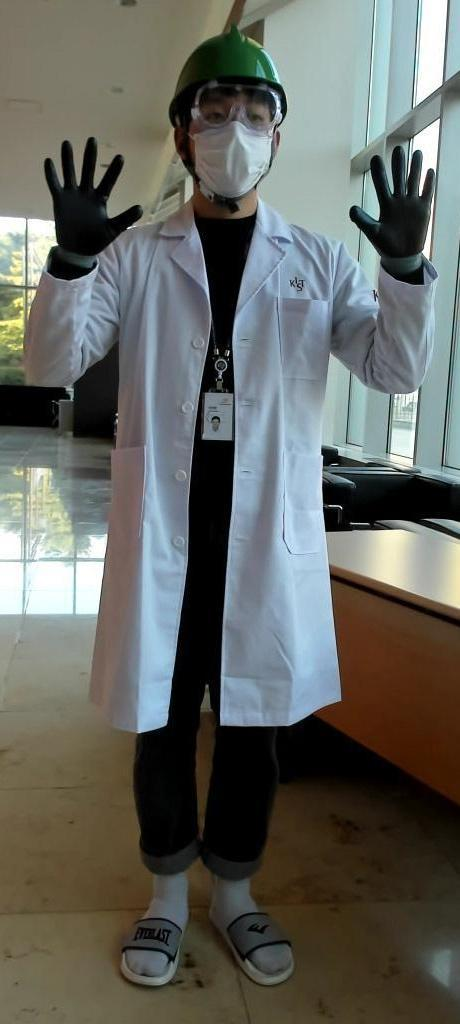lab_coat: (122, 230, 346, 706)
